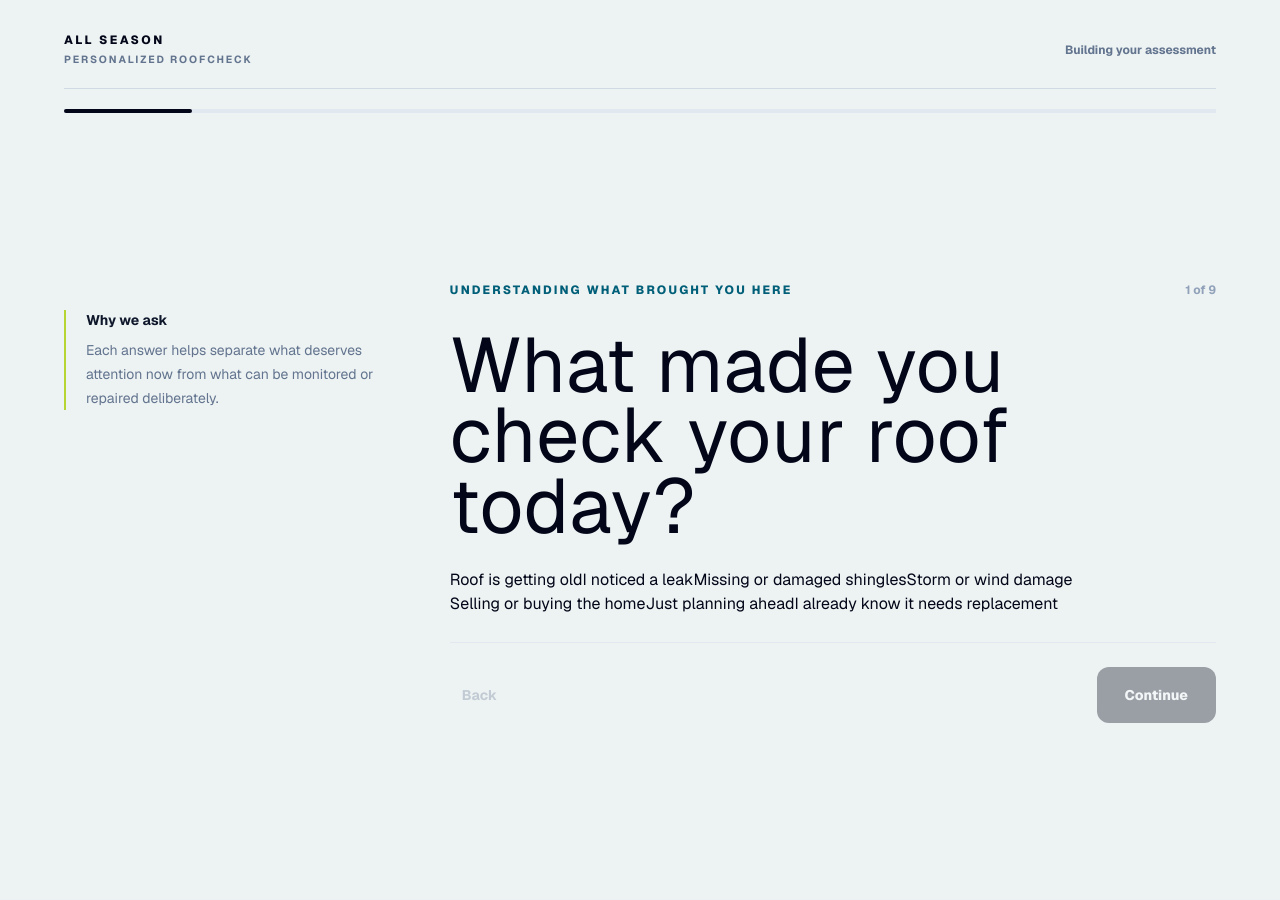
roof assessment questionnaire › retains the selected answer when a partial save fails
Click the button "Just planning ahead".
click(720, 604)  # box [645,592,794,616]
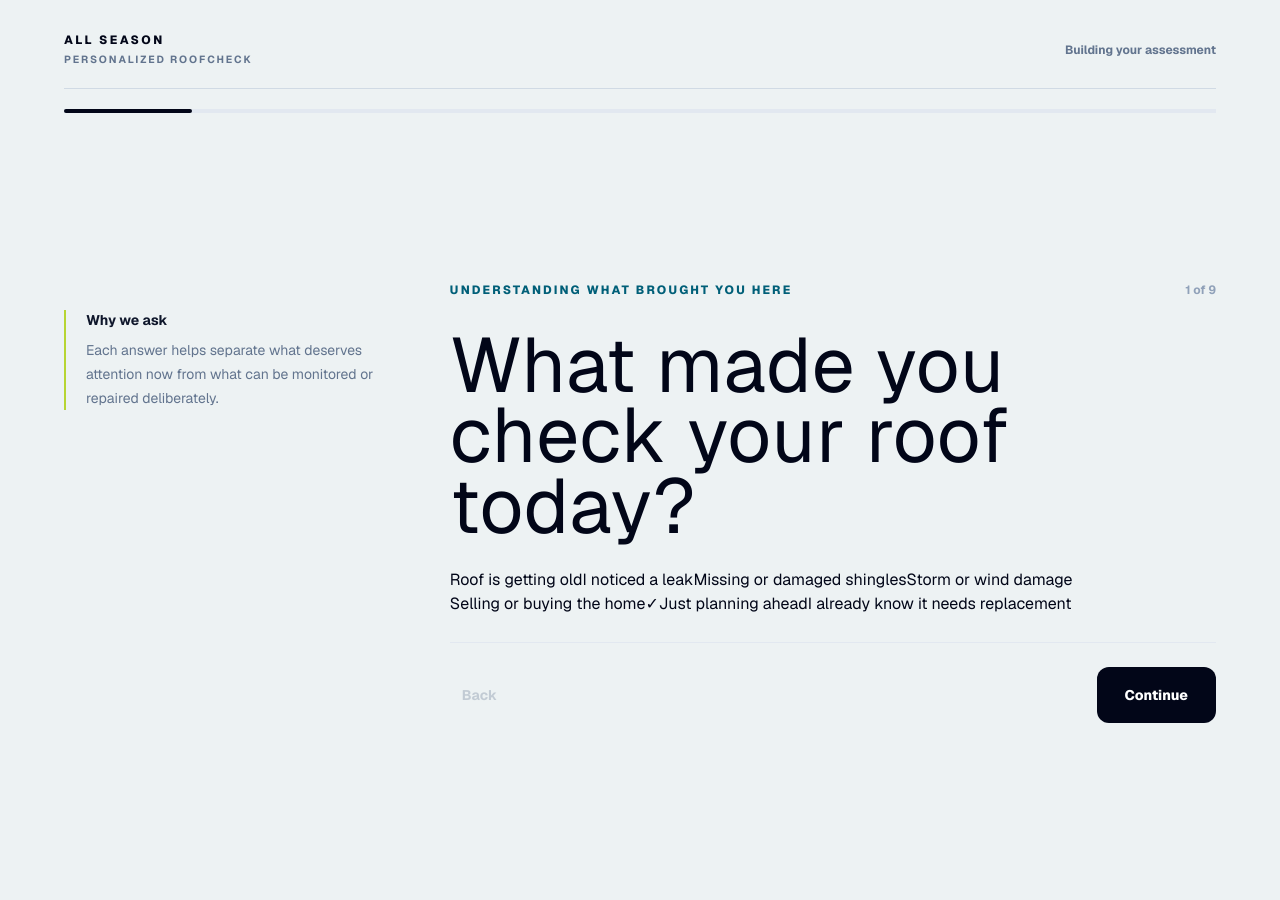
Click the button "Continue".
click(1156, 695)  # box [1096,667,1216,723]
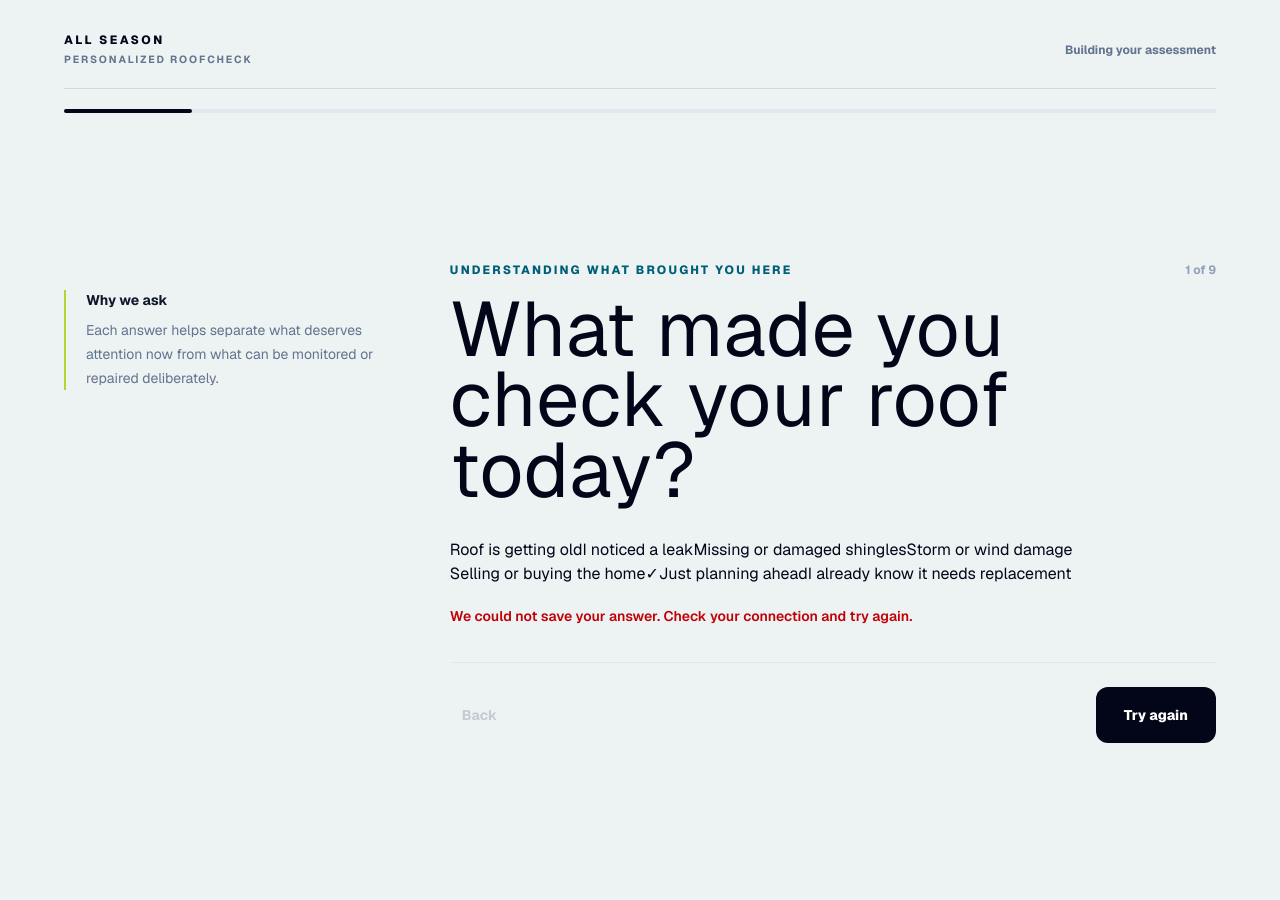
Expected: the message shows "We could not save your answer", [450,607,912,625]
